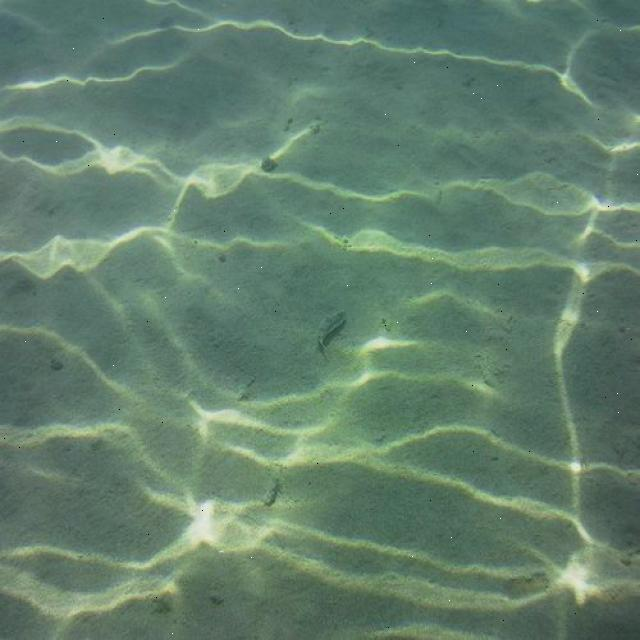Balik: (317, 312, 344, 355)
